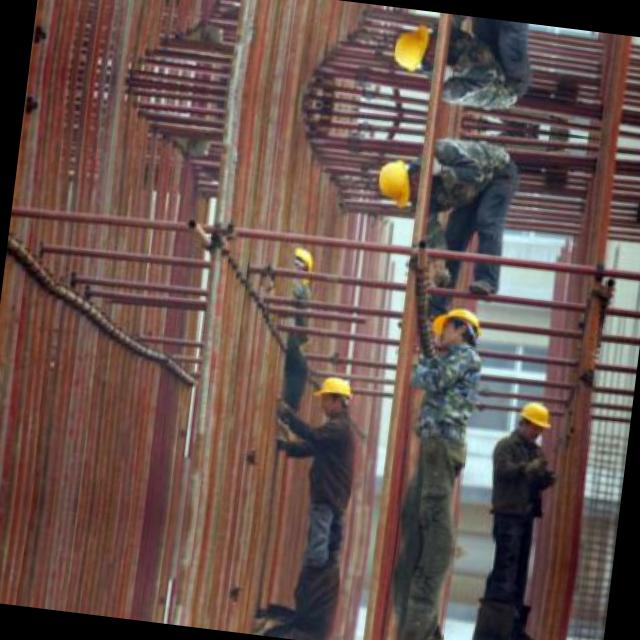helmet: (425, 298, 492, 358), (372, 153, 418, 210), (388, 19, 434, 76), (312, 371, 356, 422), (280, 242, 322, 290), (512, 396, 554, 442)
